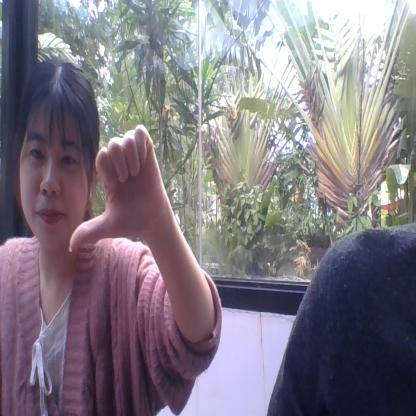right: (66, 125, 164, 253)
